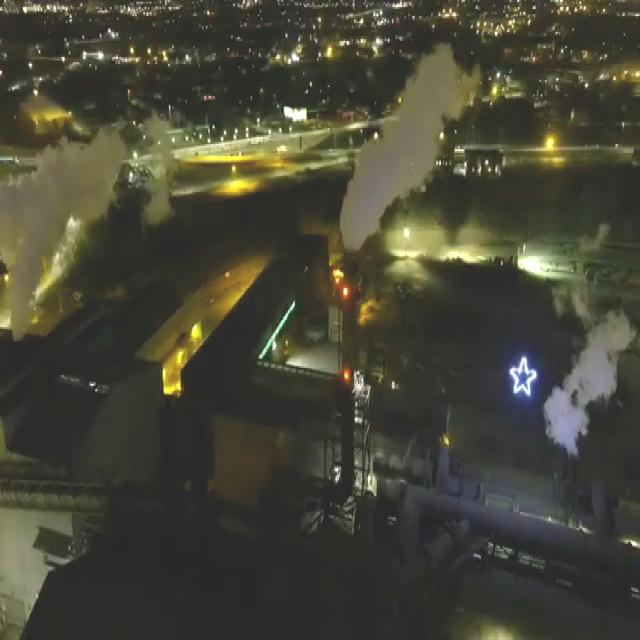smoke: (339, 43, 470, 254), (543, 304, 640, 462)
